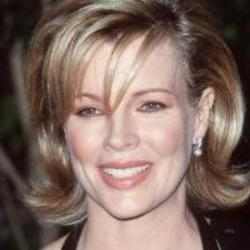face: (17, 1, 242, 233)
